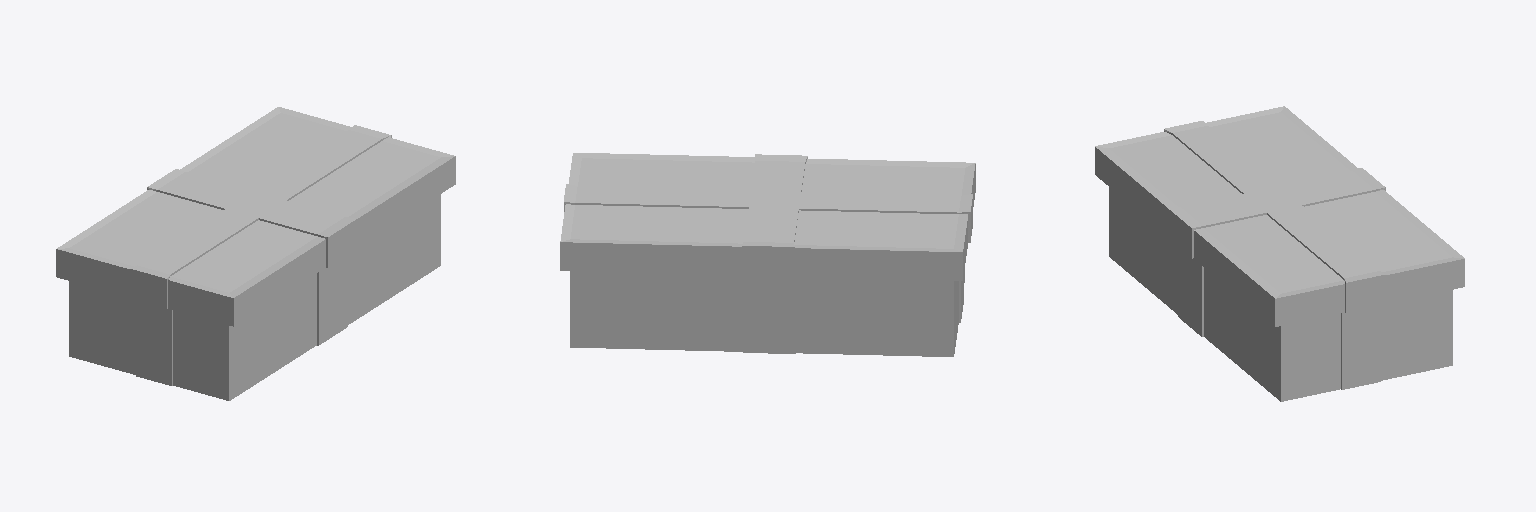
3 renders of one model, left to right at view 1: azimuth 30°, elevation 25°; view 2: azimuth 150°, elevation 25°; view 3: azimuth 270°, elevation 25°, orthographic.
Parts seen in each view (by area): view 1: Tampa__Cube.004, Caixa_Cube.003; view 2: Tampa__Cube.004, Caixa_Cube.003; view 3: Tampa__Cube.004, Caixa_Cube.003.
Boxes of the visible parts, box(x1,y1,x2,y2) form: Tampa__Cube.004: box(56, 107, 455, 326); Caixa_Cube.003: box(69, 194, 440, 400); Tampa__Cube.004: box(560, 153, 975, 280); Caixa_Cube.003: box(570, 270, 964, 356); Tampa__Cube.004: box(1095, 106, 1464, 326); Caixa_Cube.003: box(1109, 187, 1452, 401).
Size of the model in its own units: 2.14 by 0.5735 by 1.74.